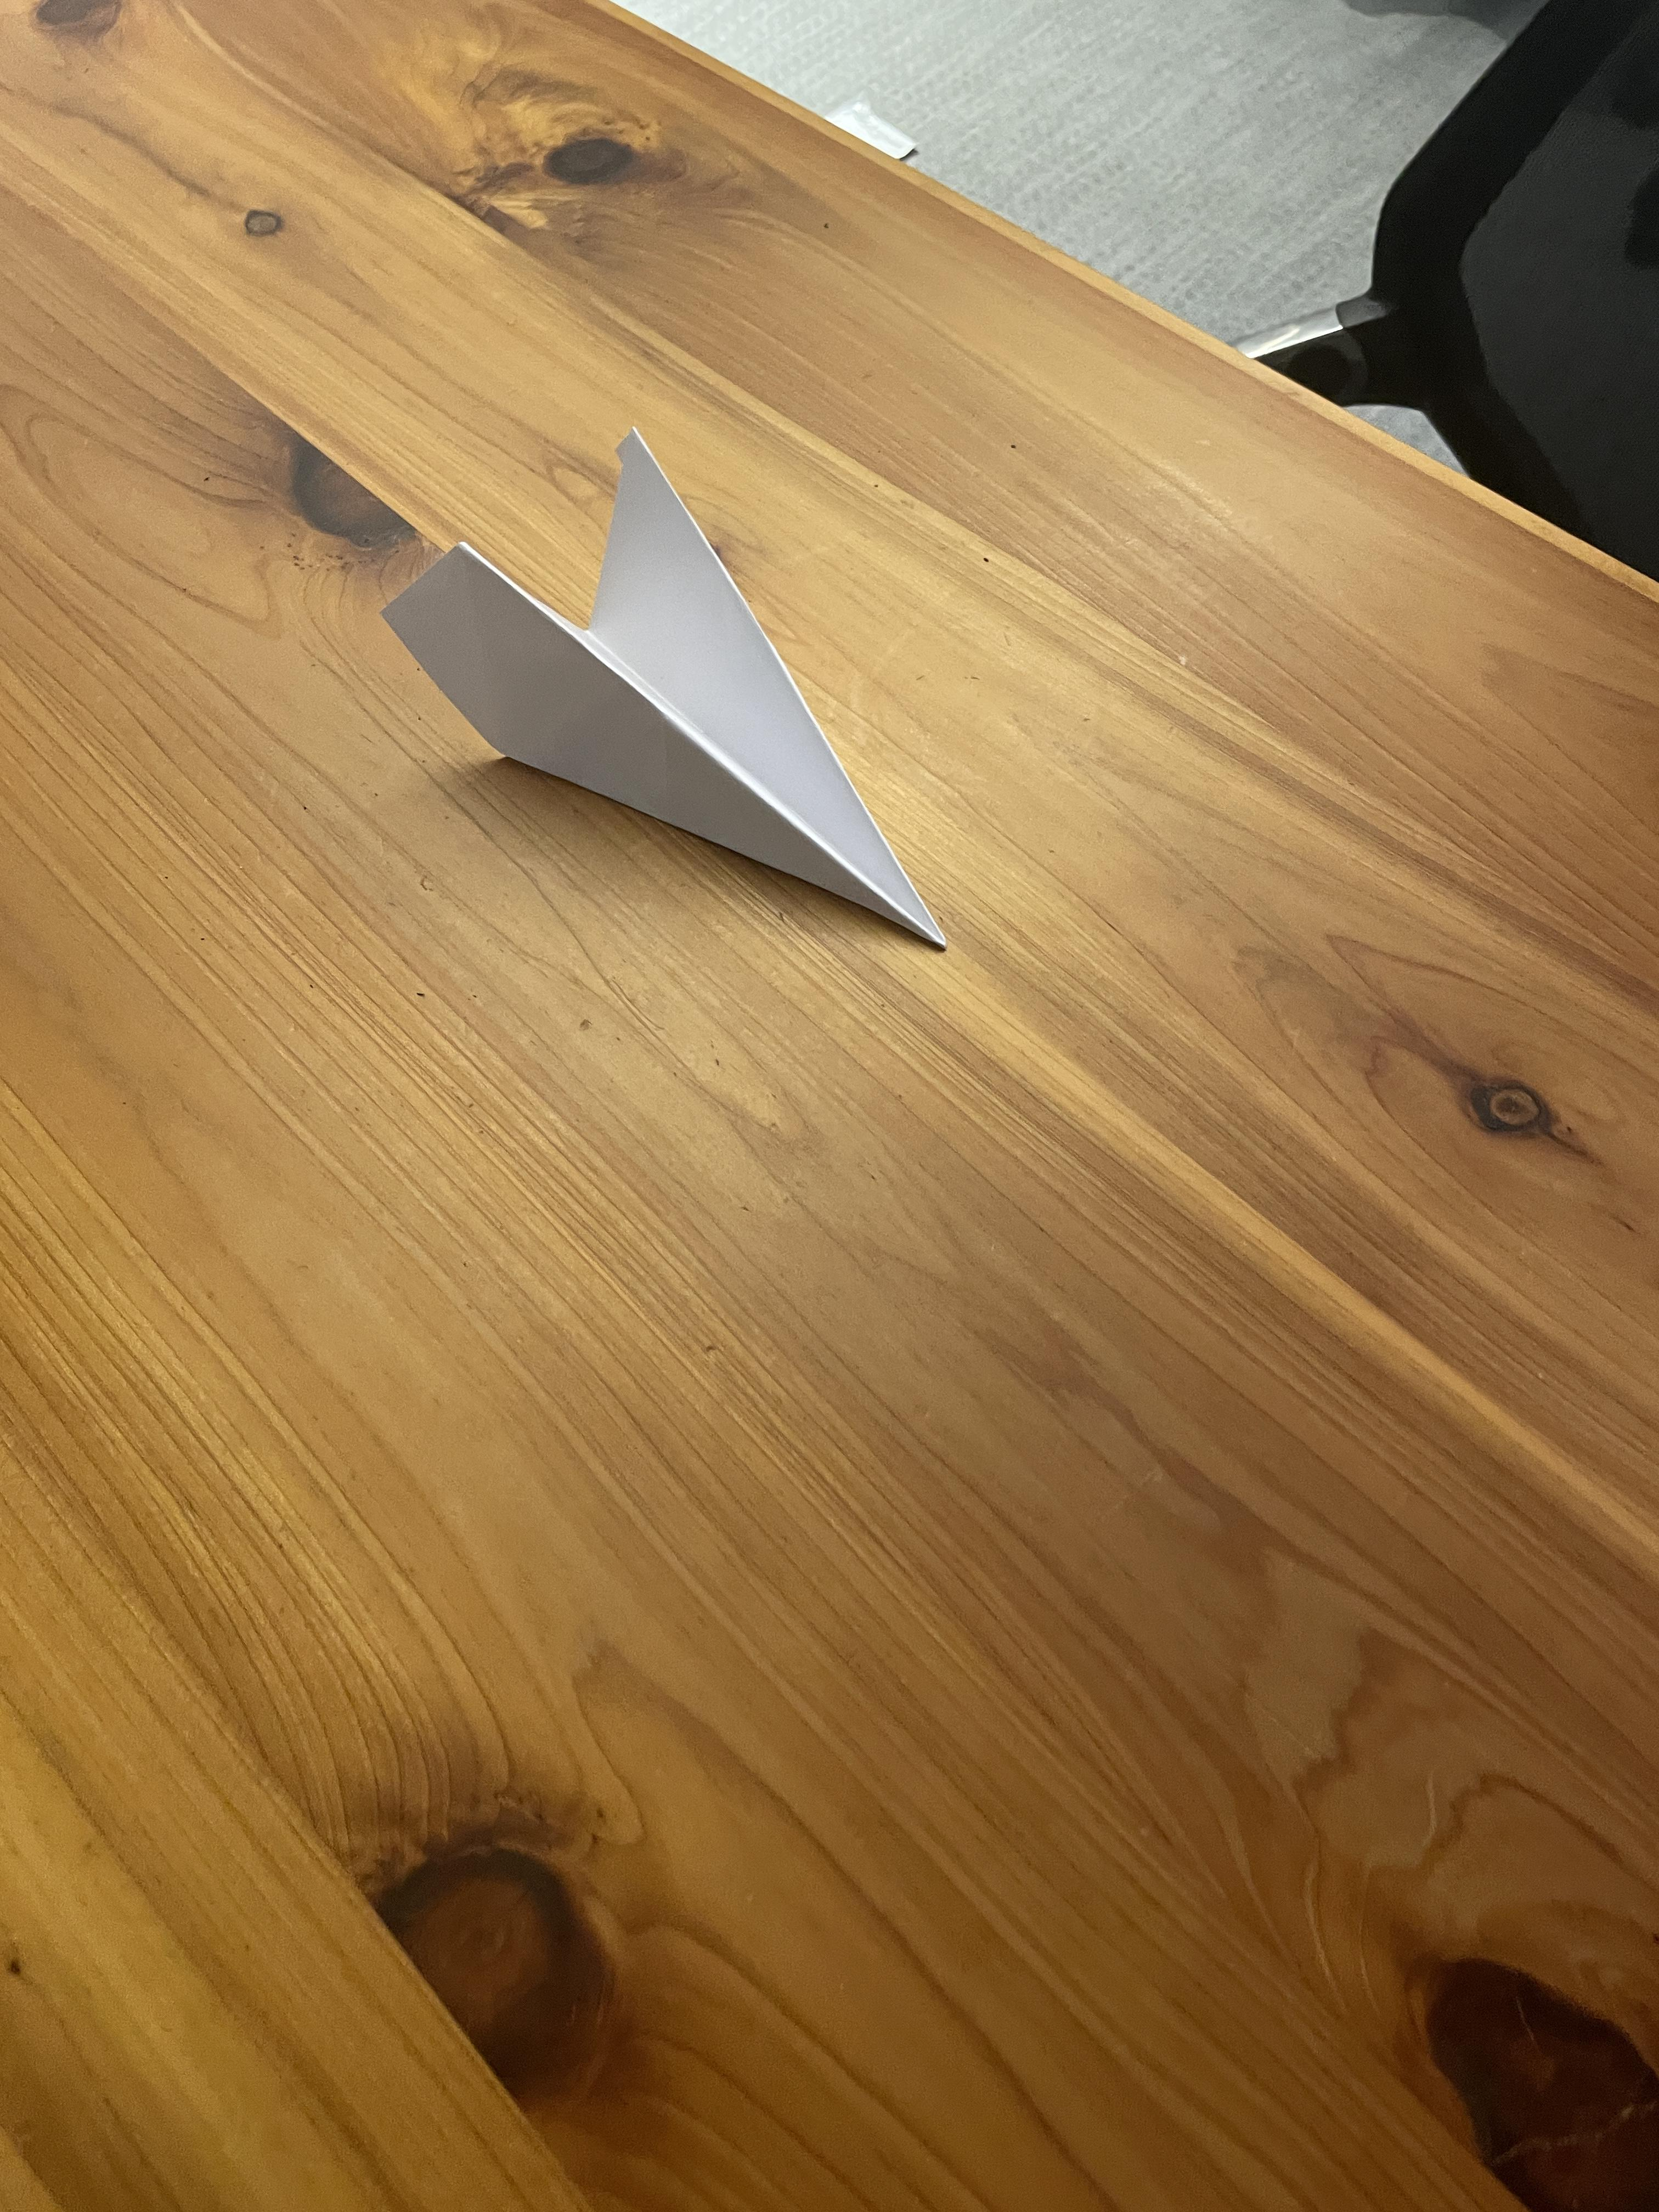shape_3: (247, 308, 1009, 1064)
